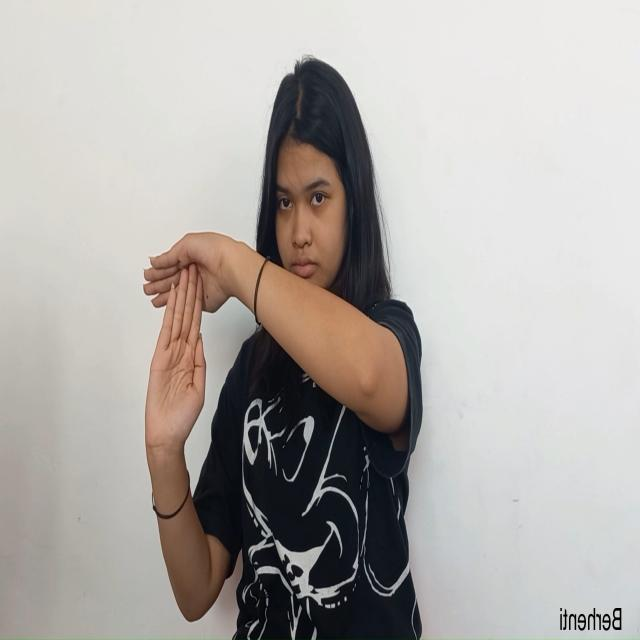Berhenti -BISINDO-: (141, 227, 247, 471)
